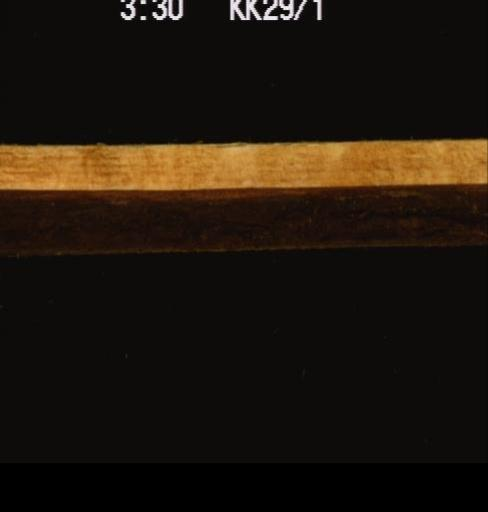wave: (0, 180, 486, 251)
